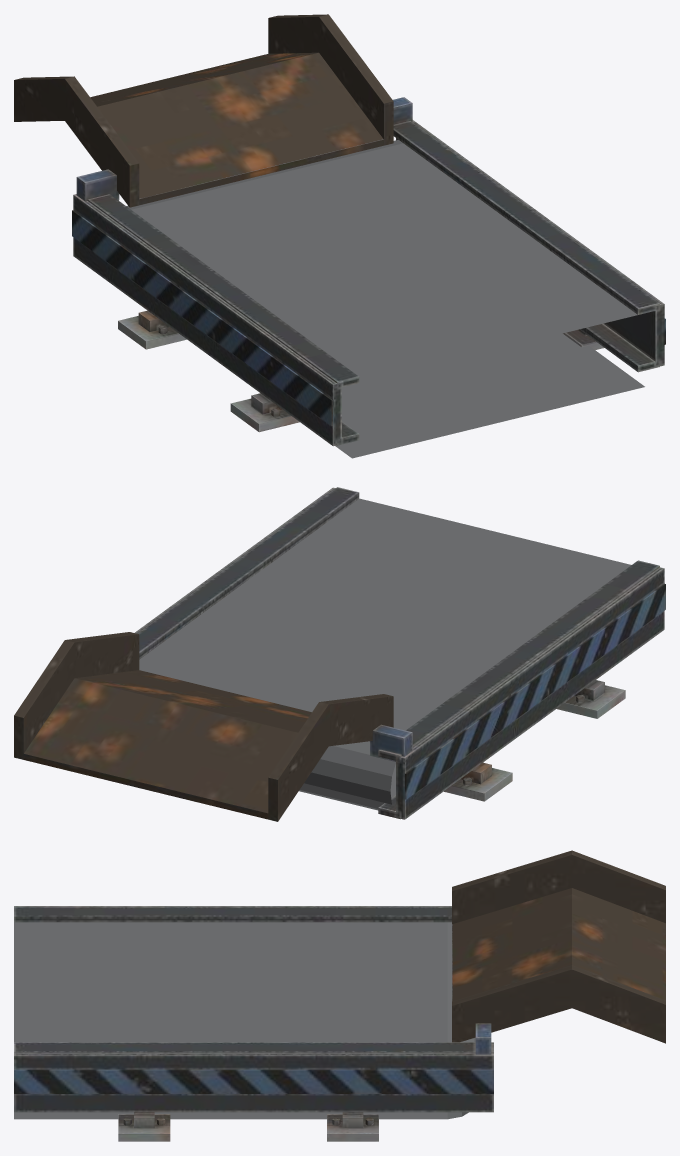
File: esteira_juncao_expressa.glb
3 renders of one model, top to bottom at view 1: azimuth 30°, elevation 25°; view 2: azimuth 150°, elevation 25°; view 3: azimuth 270°, elevation 25°, orthographic. The views are drawn at different scales.
Parts seen in each view (by area): view 1: esteira_juncao_expressa_corpo; view 2: esteira_juncao_expressa_corpo; view 3: esteira_juncao_expressa_corpo.
Boxes of the visible parts, <box> form: esteira_juncao_expressa_corpo: <box>14,14,665,458</box>; esteira_juncao_expressa_corpo: <box>14,487,665,821</box>; esteira_juncao_expressa_corpo: <box>14,850,665,1141</box>.
Size of the model in its own units: 0.75 by 0.315 by 1.25.
Materials: 2 (1 with a texture image).
